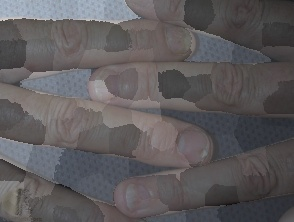Nail_psoriasis: (163, 23, 194, 58), (93, 69, 122, 104), (123, 184, 151, 213), (189, 141, 215, 171)
